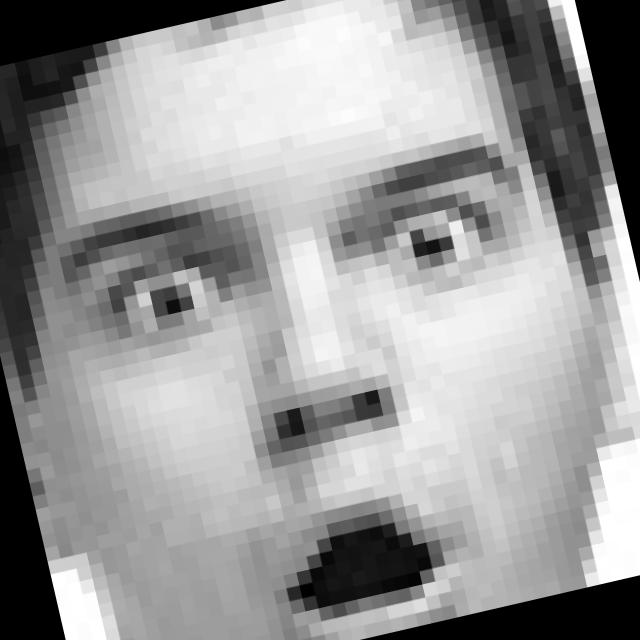surprise: (47, 114, 616, 640)
